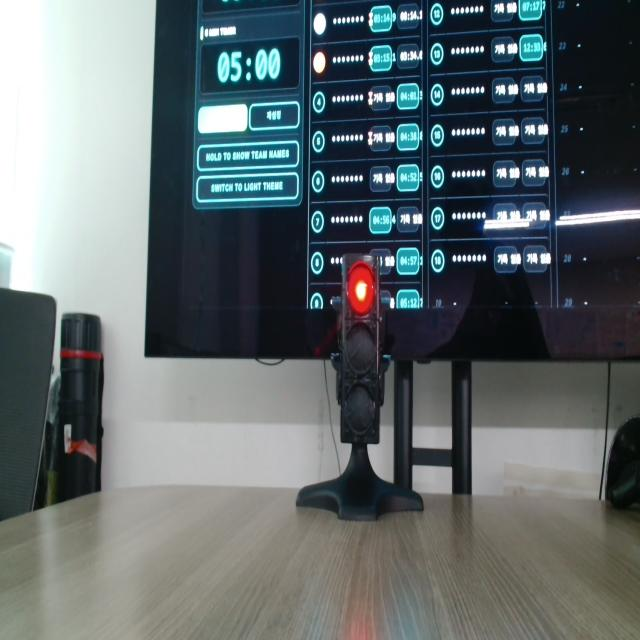red_light: (347, 262, 376, 315)
